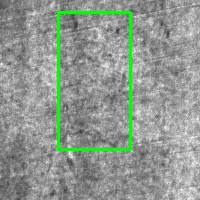crazing: (58, 12, 130, 149)
